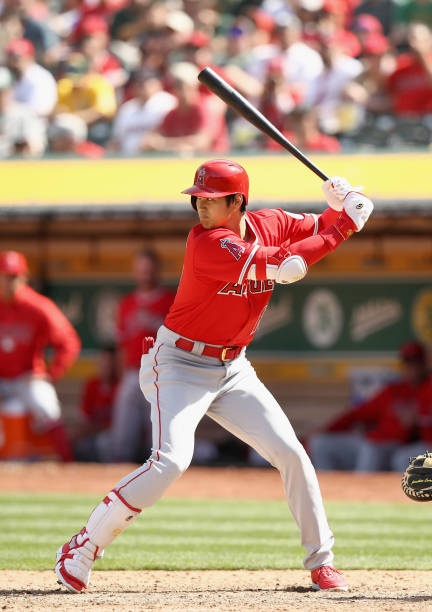bita: (201, 65, 332, 185)
